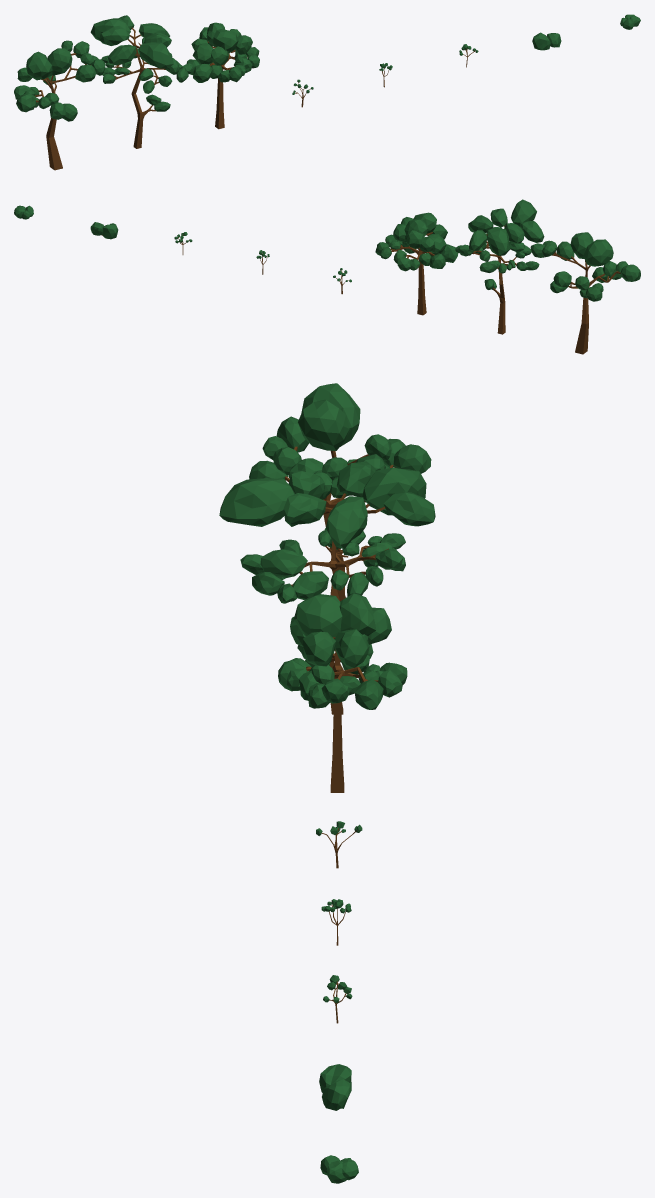
The model's file is Nosh-Up_Tree.fbx.
3 views of the same model, one above another, from view 1: azimuth 30°, elevation 25°; view 2: azimuth 150°, elevation 25°; view 3: azimuth 270°, elevation 25° (orthographic). The views are drawn at different scales.
Parts seen in each view (by area): view 1: TreeVar_02, TreeVar_01, TreeVar_03, BushVar_01; view 2: TreeVar_02, TreeVar_01, TreeVar_03, BushVar_01; view 3: TreeVar_02, TreeVar_03, TreeVar_01, BushVar_01.
Part boxes in pixels (x1=…): TreeVar_02: x1=90, y1=15, x2=194, y2=148; TreeVar_01: x1=14, y1=40, x2=105, y2=170; TreeVar_03: x1=186, y1=22, x2=259, y2=129; BushVar_01: x1=532, y1=32, x2=561, y2=50; TreeVar_02: x1=455, y1=199, x2=544, y2=334; TreeVar_01: x1=530, y1=232, x2=640, y2=354; TreeVar_03: x1=375, y1=212, x2=458, y2=315; BushVar_01: x1=90, y1=222, x2=118, y2=239; TreeVar_02: x1=219, y1=462, x2=435, y2=714; TreeVar_03: x1=278, y1=593, x2=407, y2=792; TreeVar_01: x1=249, y1=383, x2=431, y2=600; BushVar_01: x1=319, y1=1064, x2=351, y2=1110.
Size of the model in its own units: 3077 by 563 by 470.
